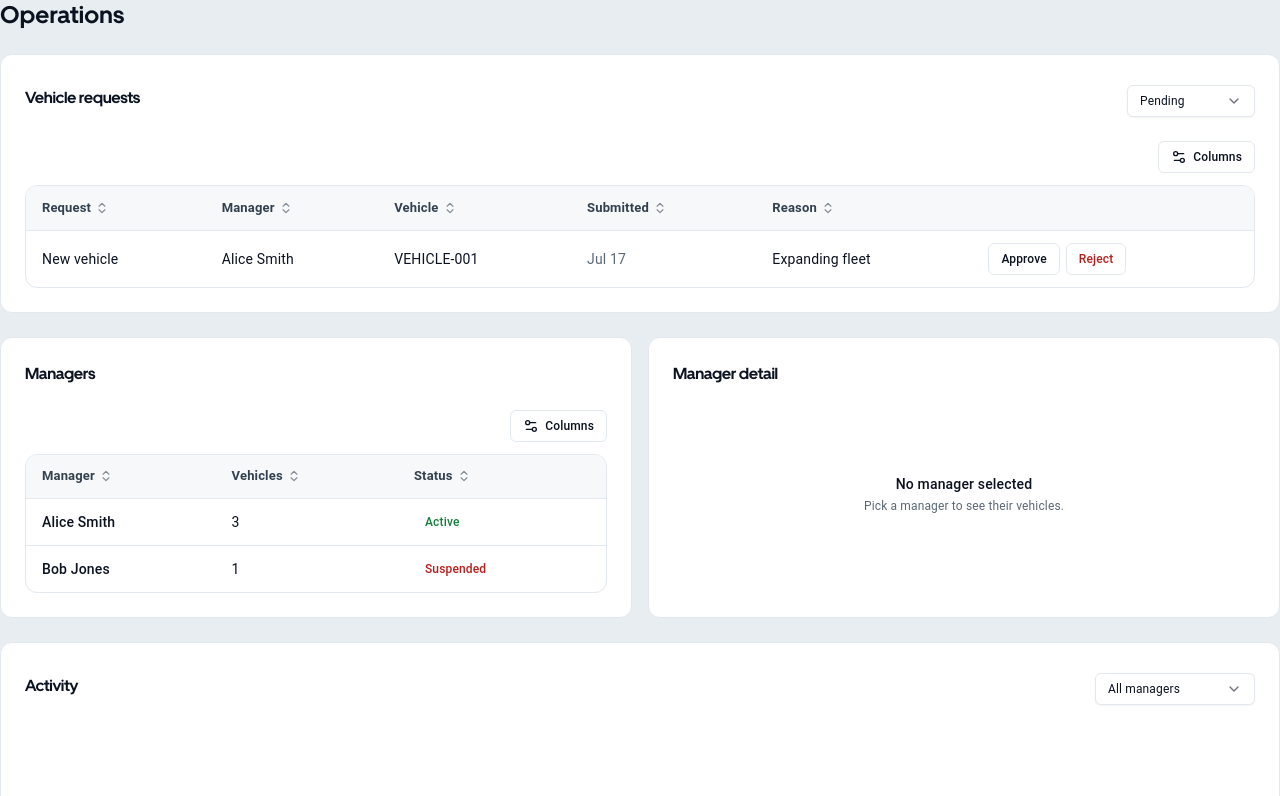
Scenario: OperationsPage › opens Approve ConfirmDialog without reason textarea
Click the button "Approve". click: (1024, 258)
box: [988,242,1060,274]
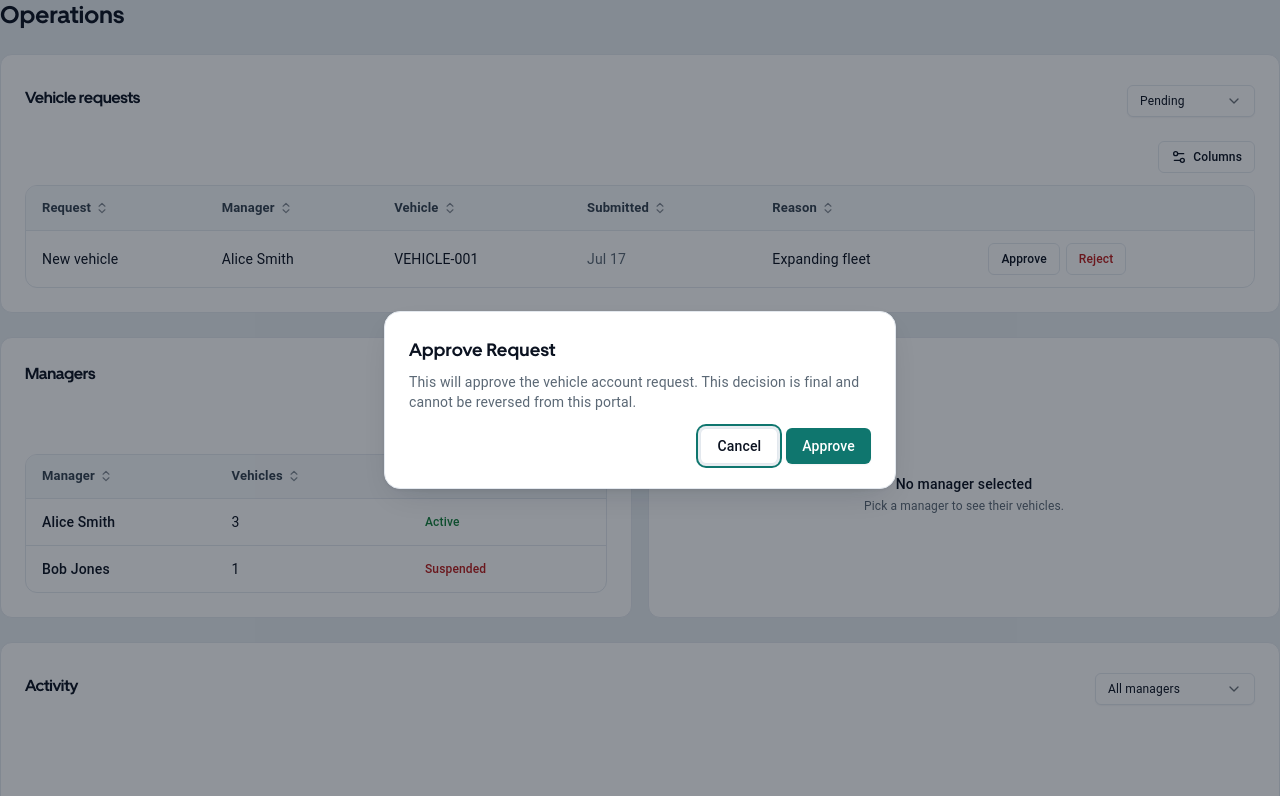
Expected: the heading "Approve Request" is shown, [409,339,556,360]
